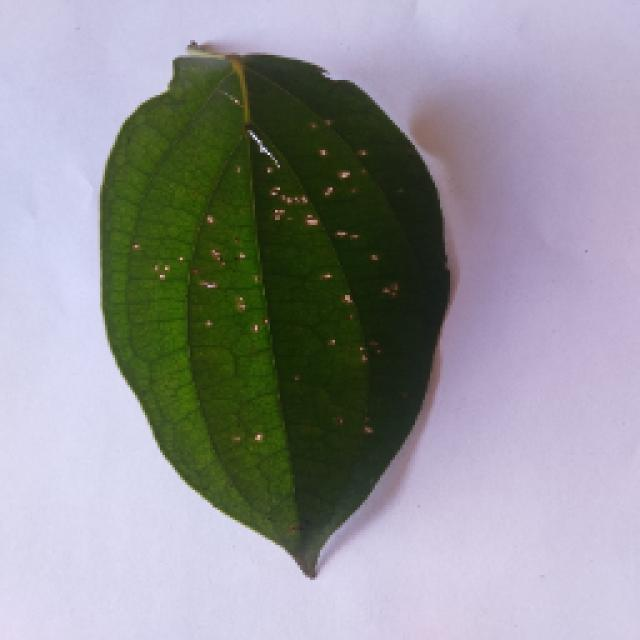pollu-disease: (70, 47, 480, 575)
